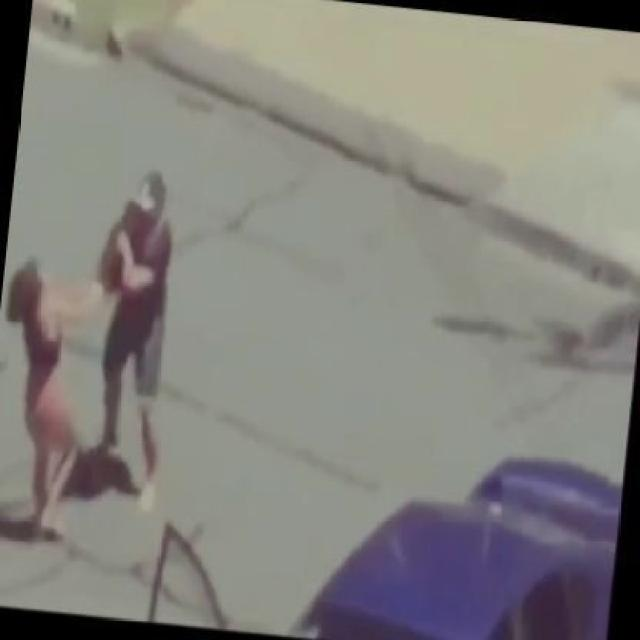fight: (0, 165, 177, 560)
